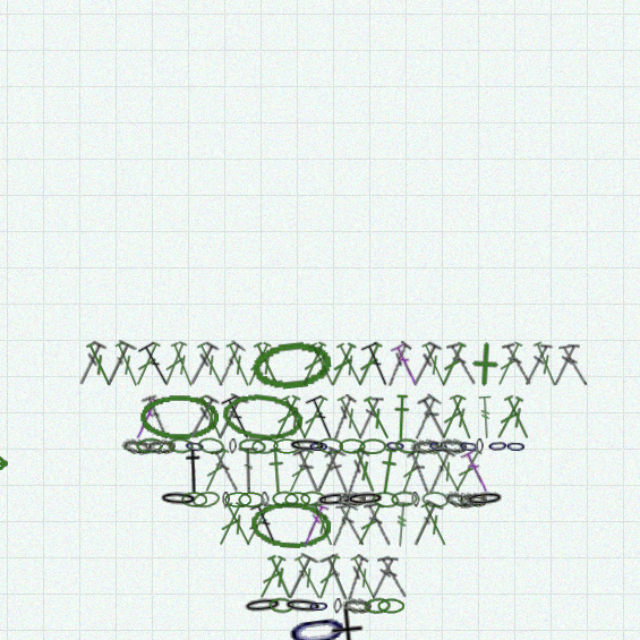chain: (220, 396, 295, 445), (246, 350, 320, 398), (246, 493, 319, 537), (149, 400, 219, 441), (276, 585, 337, 632), (240, 578, 276, 595), (436, 484, 472, 501), (304, 485, 340, 501), (276, 579, 311, 595), (166, 485, 201, 500), (331, 485, 366, 500), (280, 438, 315, 453), (417, 484, 445, 502), (325, 626, 360, 640), (195, 484, 221, 502), (133, 438, 160, 454), (388, 438, 415, 454), (200, 437, 225, 454), (354, 485, 379, 501), (398, 485, 423, 501), (236, 438, 261, 454), (328, 579, 354, 594), (323, 485, 349, 500), (412, 438, 438, 453), (374, 438, 398, 454), (282, 625, 307, 640), (294, 626, 320, 640), (430, 486, 456, 500), (155, 439, 181, 453), (347, 579, 371, 594), (266, 485, 290, 500), (371, 485, 395, 500), (146, 438, 170, 453), (248, 438, 272, 453), (263, 579, 286, 594), (291, 485, 314, 500), (174, 438, 197, 453), (306, 438, 329, 453), (312, 626, 336, 640), (359, 580, 383, 594), (224, 486, 248, 500), (236, 486, 260, 500), (267, 439, 291, 453), (325, 439, 349, 453), (343, 439, 367, 453), (186, 486, 209, 500), (277, 486, 300, 500), (188, 438, 208, 454), (403, 438, 423, 454), (430, 438, 450, 454), (365, 438, 385, 453), (456, 438, 475, 453), (298, 580, 317, 594), (298, 439, 317, 453), (472, 439, 491, 453), (320, 580, 328, 594), (256, 486, 264, 500), (389, 486, 397, 500), (222, 486, 229, 500), (228, 439, 235, 453), (446, 439, 453, 453)
double: (274, 540, 308, 584), (212, 399, 246, 443), (147, 352, 181, 396), (385, 493, 418, 537), (299, 446, 332, 490), (220, 399, 253, 443), (114, 352, 147, 396), (308, 540, 340, 584), (246, 493, 277, 537), (295, 399, 326, 443), (344, 352, 375, 396), (398, 446, 429, 489), (386, 399, 417, 442), (213, 352, 244, 395), (250, 541, 281, 583), (283, 541, 314, 583), (221, 494, 252, 536), (238, 494, 269, 536), (406, 447, 437, 489), (423, 447, 454, 489), (189, 400, 220, 442), (344, 400, 375, 442), (394, 400, 425, 442), (189, 353, 220, 395), (197, 353, 228, 395), (320, 353, 351, 395), (386, 353, 417, 395), (313, 493, 343, 536), (264, 399, 294, 442), (272, 399, 302, 442), (468, 399, 498, 442), (91, 352, 121, 395), (99, 352, 129, 395), (247, 352, 277, 395), (460, 352, 490, 395), (214, 494, 244, 536), (337, 494, 367, 536), (395, 494, 425, 536), (288, 400, 318, 442), (321, 400, 351, 442), (460, 400, 490, 442), (296, 353, 326, 395), (313, 353, 343, 395), (259, 540, 288, 583), (202, 446, 231, 489), (284, 446, 313, 489), (198, 399, 227, 442), (411, 399, 440, 442), (141, 352, 170, 395), (288, 352, 317, 395), (337, 352, 366, 395), (411, 352, 440, 395), (333, 541, 362, 583), (276, 447, 305, 489), (432, 447, 461, 489), (141, 400, 170, 442), (370, 353, 399, 395), (297, 493, 325, 536), (334, 446, 362, 489), (150, 399, 178, 442), (166, 352, 194, 395), (494, 352, 522, 395), (289, 494, 317, 536), (223, 353, 251, 395), (240, 353, 268, 395), (396, 353, 424, 395), (302, 540, 329, 583), (420, 399, 447, 442), (359, 541, 387, 582), (420, 353, 448, 394), (469, 353, 497, 394), (486, 353, 514, 394), (125, 353, 152, 395), (174, 353, 201, 395), (322, 495, 350, 535), (519, 354, 547, 394), (351, 541, 378, 582), (363, 353, 390, 394), (347, 494, 373, 536), (327, 447, 353, 489), (376, 447, 402, 489), (212, 447, 238, 488), (311, 447, 337, 488), (315, 400, 341, 441), (339, 400, 365, 441), (512, 353, 538, 394), (327, 541, 352, 583), (384, 447, 409, 489), (236, 447, 255, 488)
half_double: (185, 447, 209, 488), (358, 447, 379, 489), (261, 447, 279, 489), (372, 400, 389, 441)
noise: (607, 97, 630, 120), (3, 455, 35, 467), (0, 348, 15, 367)
single: (433, 352, 476, 395), (315, 587, 349, 630)
treble: (372, 494, 389, 536), (447, 400, 463, 441)
